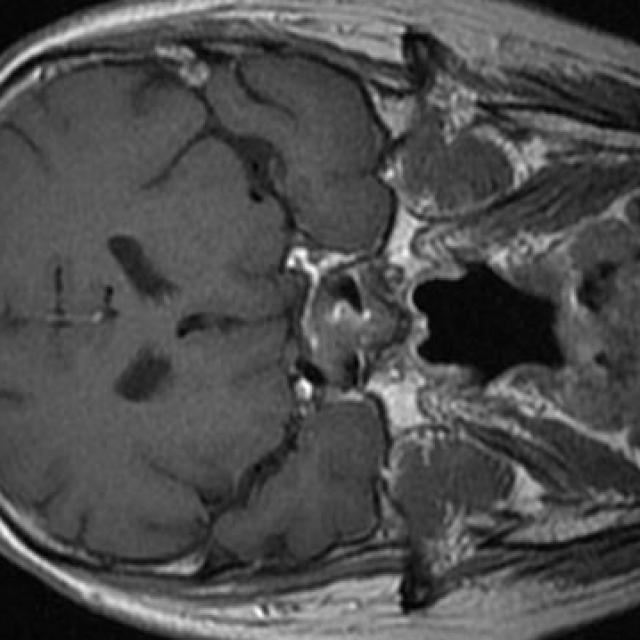pituitary: (301, 253, 408, 389)
